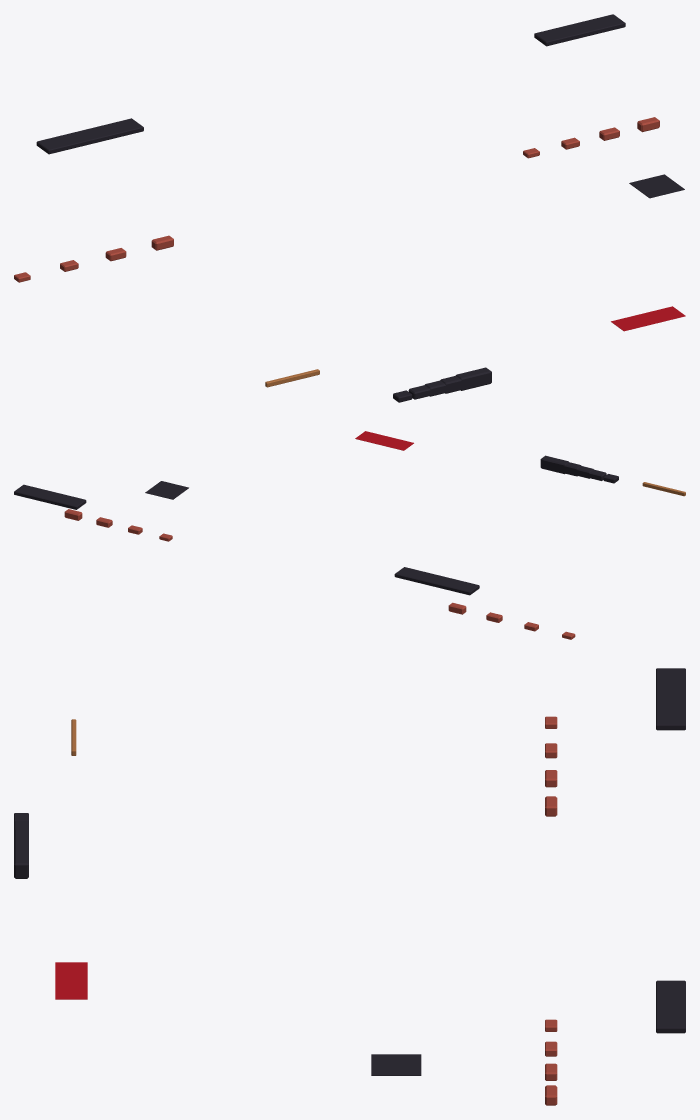
File: D-SCHOOL.w5.glb
3 views of the same model, one above another, from view 1: azimuth 30°, elevation 25°; view 2: azimuth 150°, elevation 25°; view 3: azimuth 270°, elevation 25° (orthographic). The views are drawn at different scales.
Visible parts, largest first — view 1: pal_uiDark.002, pal_brick.003, pal_blood.003; view 2: pal_uiDark.002, pal_brick.003, pal_blood.003; view 3: pal_uiDark.002, pal_brick.003, pal_blood.003.
Part boxes in pixels (x1=…): pal_uiDark.002: x1=36, y1=14, x2=684, y2=402; pal_brick.003: x1=14, y1=117, x2=659, y2=282; pal_blood.003: x1=611, y1=306, x2=685, y2=331; pal_uiDark.002: x1=14, y1=455, x2=618, y2=595; pal_brick.003: x1=64, y1=509, x2=575, y2=639; pal_blood.003: x1=355, y1=431, x2=413, y2=450; pal_uiDark.002: x1=14, y1=668, x2=685, y2=1075; pal_brick.003: x1=545, y1=716, x2=557, y2=1105; pal_blood.003: x1=55, y1=962, x2=87, y2=999.
Bounding box in the file's own units: 36.8 × 4.6 × 26.9.
